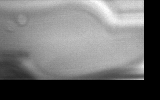cell: (13, 11, 29, 28), (2, 19, 18, 34)
